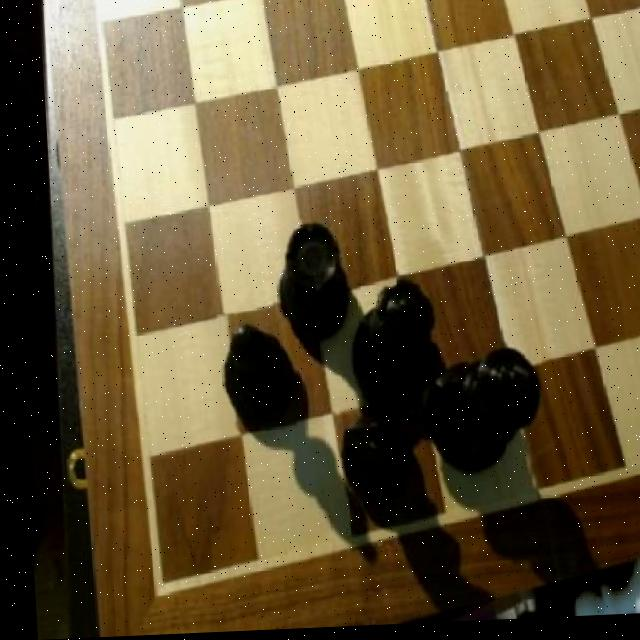bishop: (329, 394, 433, 526), (209, 313, 296, 435)
black-bishop: (414, 345, 543, 482)
black-pawn: (337, 278, 438, 419)
black-queen: (265, 219, 352, 343)
